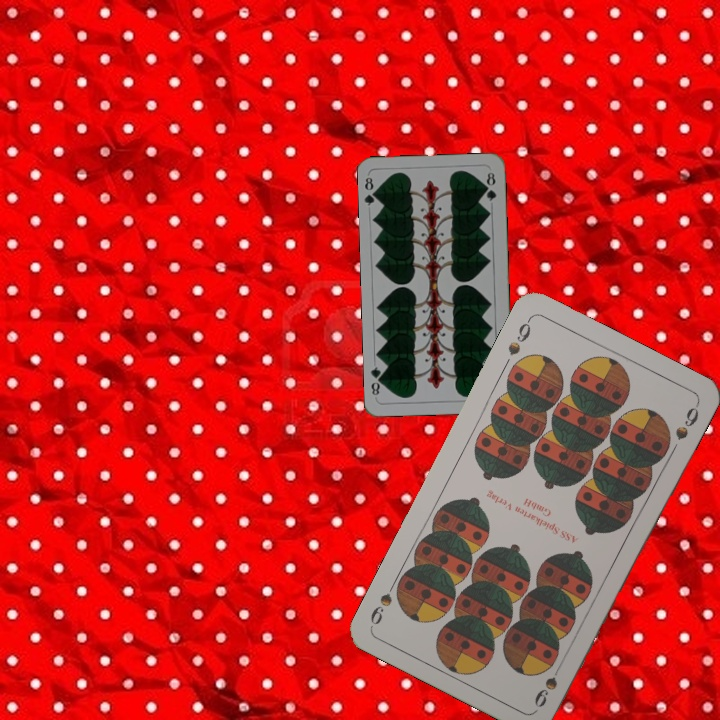G8: (361, 173, 381, 208)
S9: (530, 656, 566, 710), (503, 314, 534, 358)
